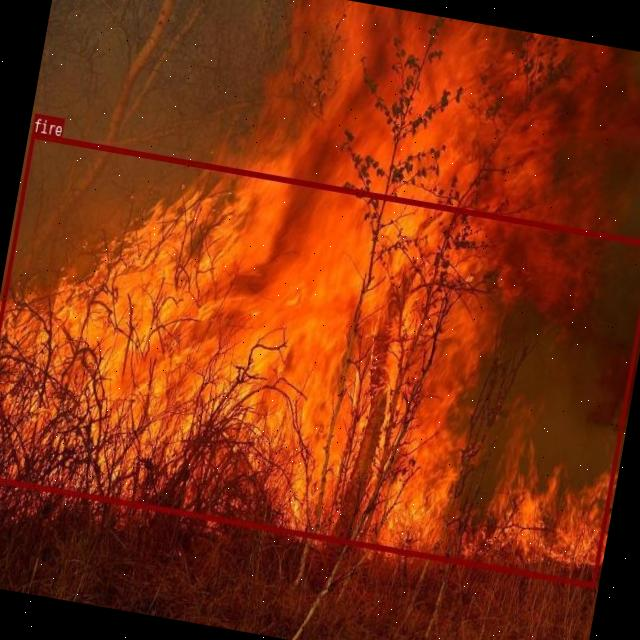fire: (0, 132, 640, 587)
